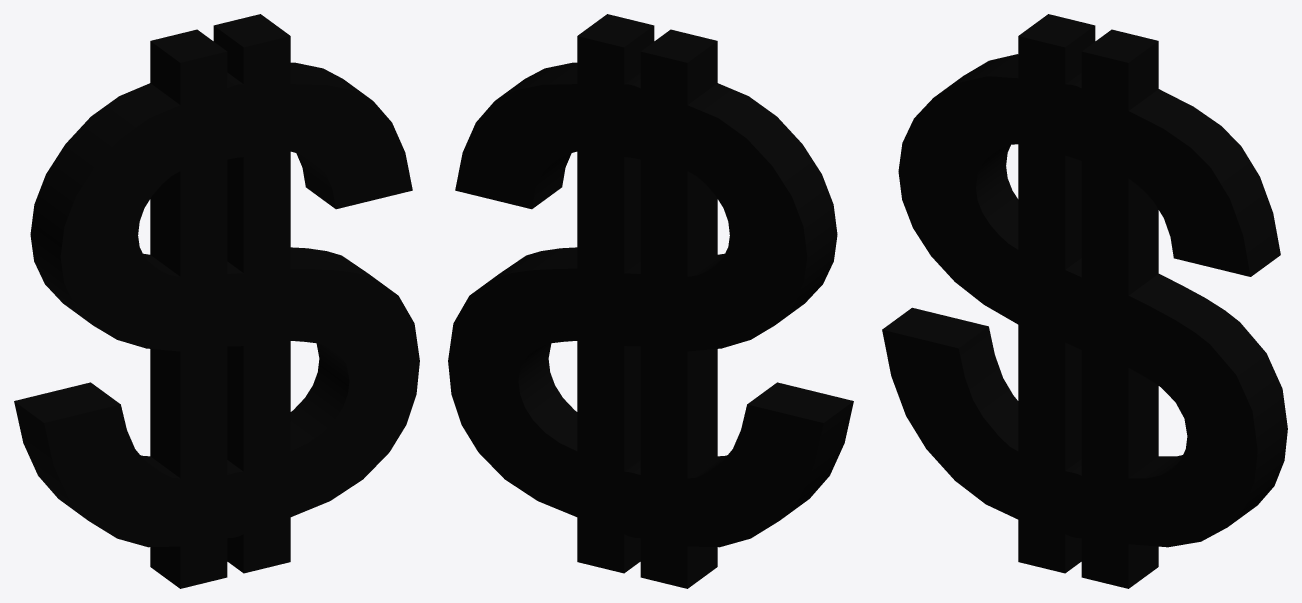
Rendered from dezyne_3d-dollar-sign-1852.glb.
The picture shows the model from 3 angles, left to right: view 1: azimuth 30°, elevation 25°; view 2: azimuth 150°, elevation 25°; view 3: azimuth 330°, elevation 25°; orthographic projection.
Parts seen in each view (by area): view 1: mesh_id206; view 2: mesh_id206; view 3: mesh_id206.
Part boxes in pixels (box(x1,y1,x2,y2)): mesh_id206: box(14, 14, 419, 588); mesh_id206: box(448, 14, 853, 588); mesh_id206: box(882, 14, 1287, 588).
Bounding box in the file's own units: 0.1081 × 0.1445 × 0.015.
Materials: 1 (1 with a texture image).
